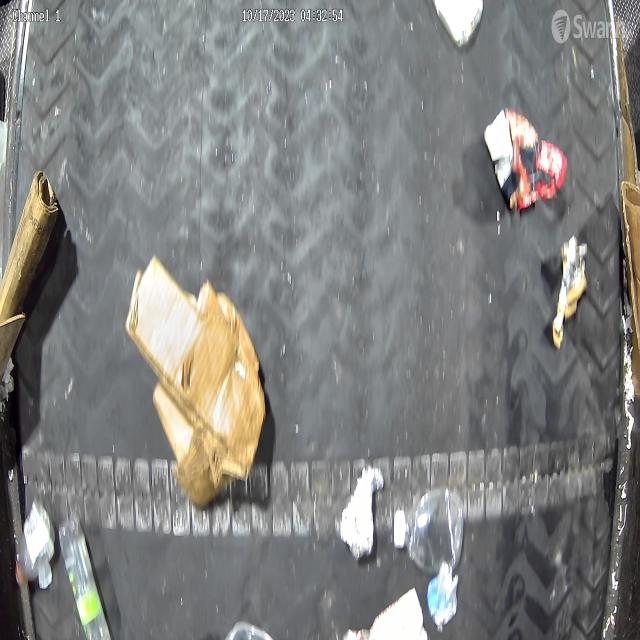plastic_bottle: (58, 512, 113, 637)
